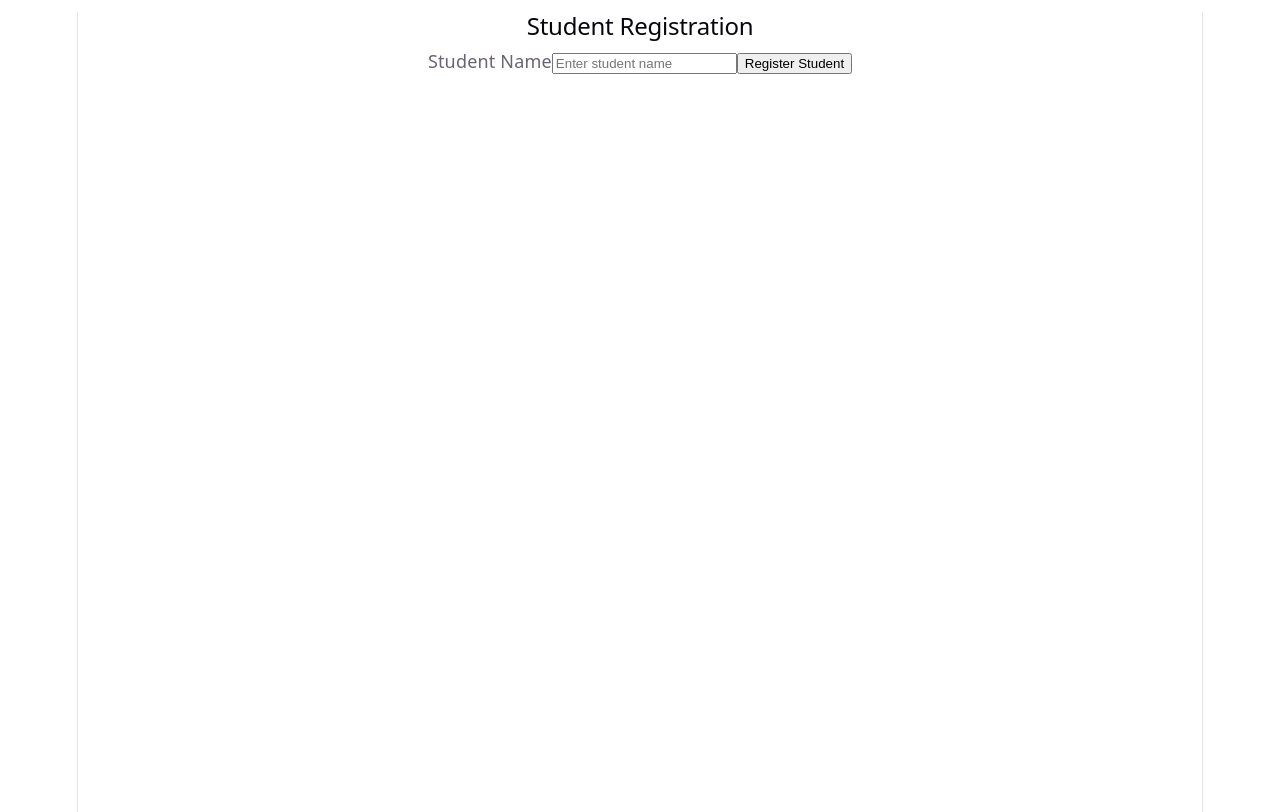
Scenario: Student Registration Testing › should register student successfully
Type "Rahul" into the field labelled "Student Name" at (644, 64), box [552,53,737,74]
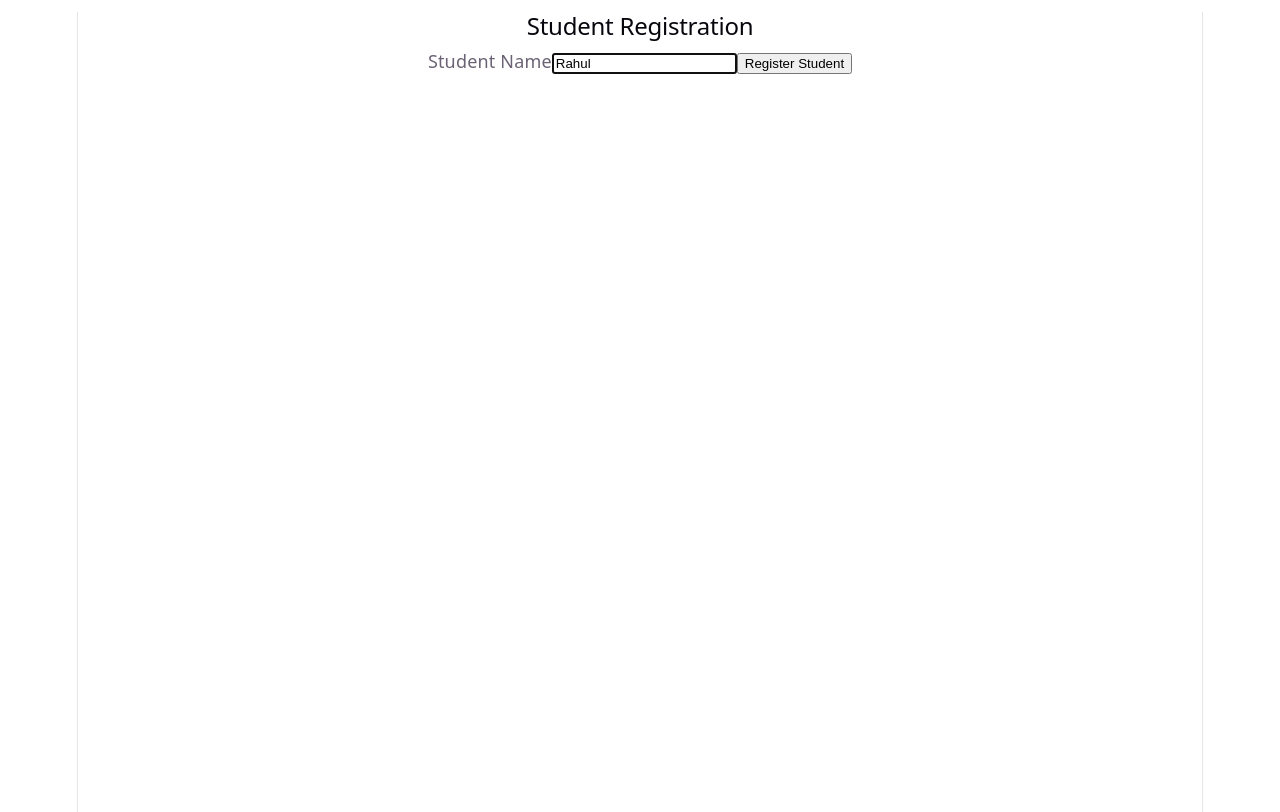
Click the button "Register Student" at (794, 64), box [737,53,852,74]
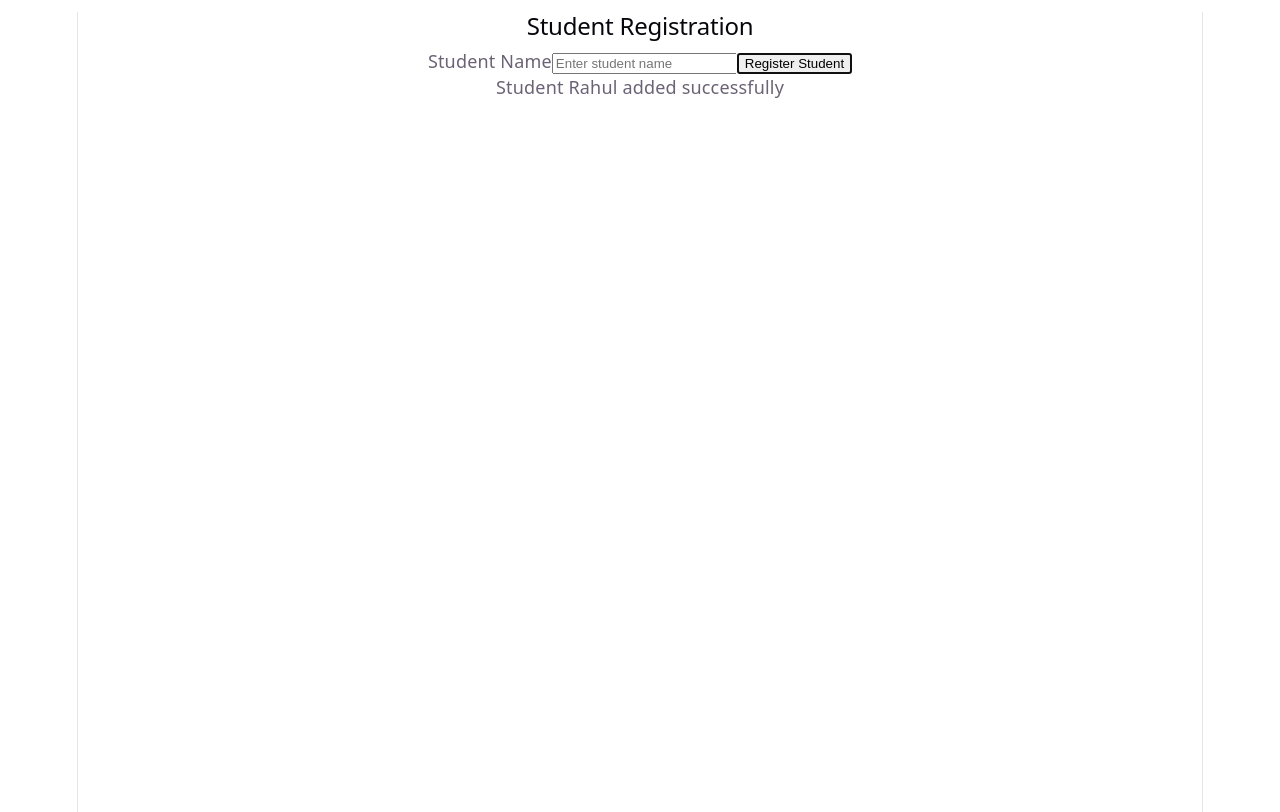
Expected: the text "Student Rahul added successfully" is shown, [496,75,784,99]
